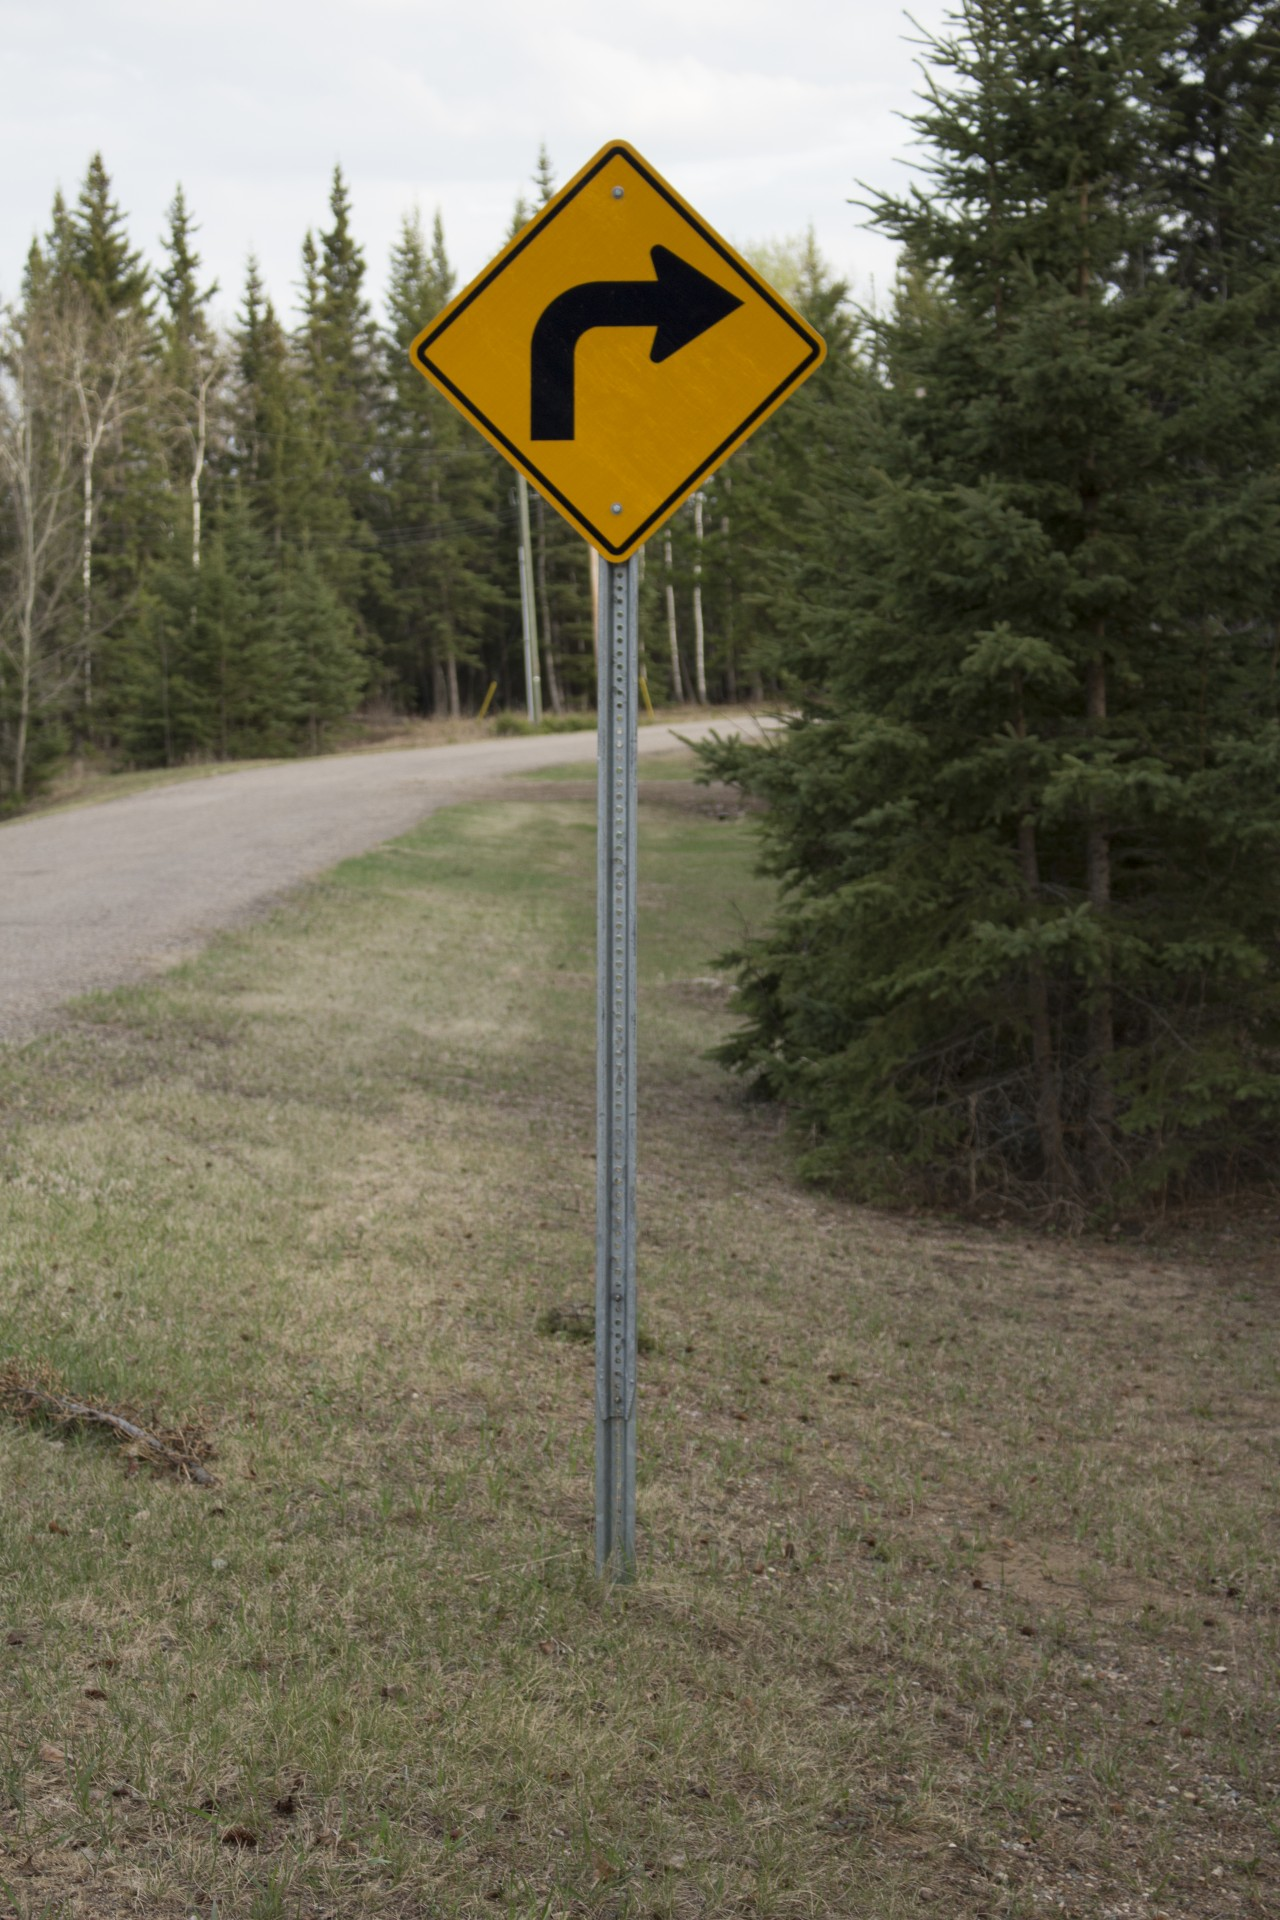right: (393, 136, 829, 571)
